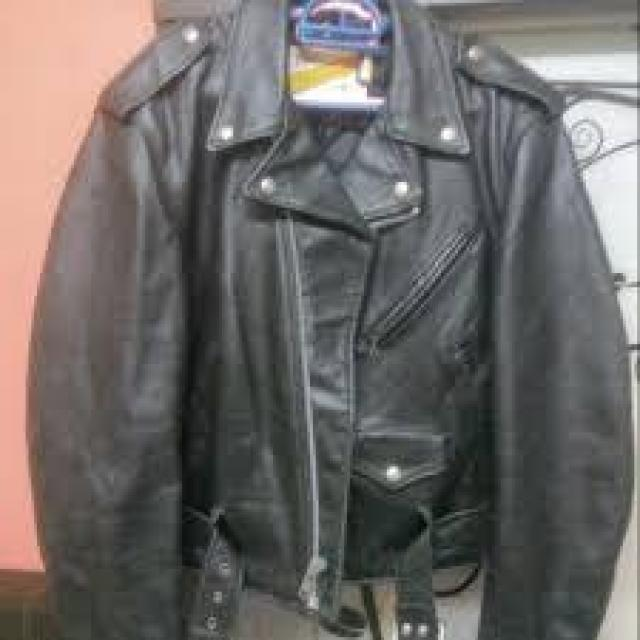jacket: (41, 17, 622, 637)
